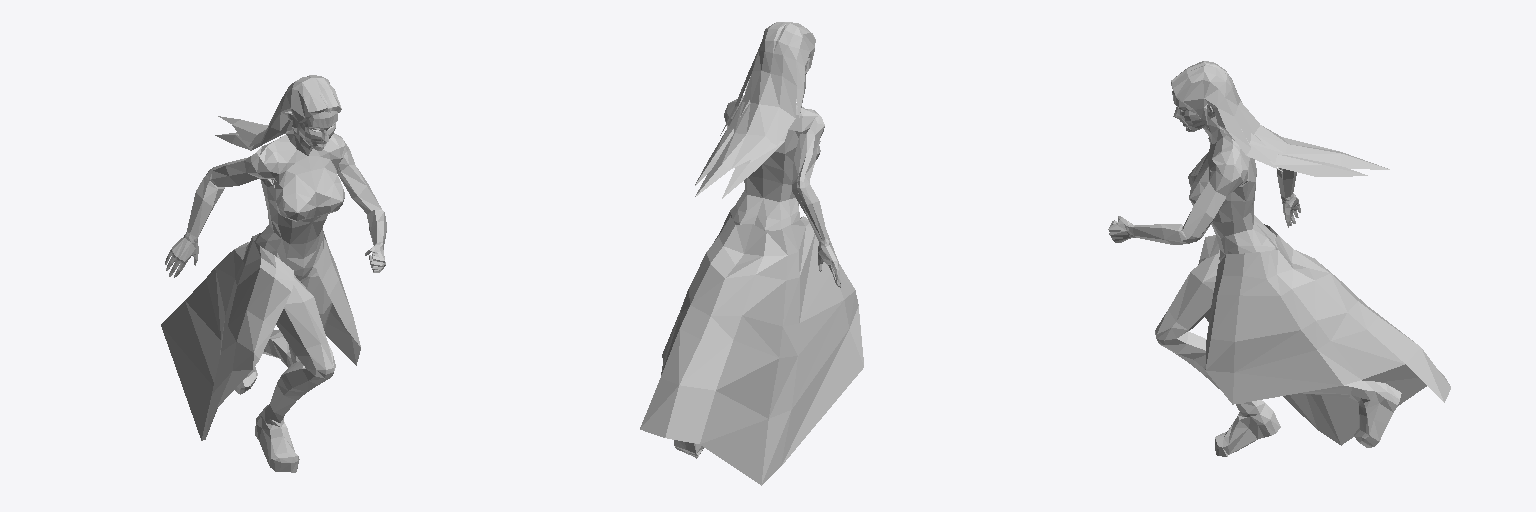
The model's file is running_017.obj.
3 renders of one model, left to right at view 1: azimuth 30°, elevation 25°; view 2: azimuth 150°, elevation 25°; view 3: azimuth 270°, elevation 25°, orthographic.
Visible parts, largest first — view 1: Plane.001_Plane.007, Plane.003_Plane.008, capelli.001_Plane.006; view 2: Plane.003_Plane.008, capelli.001_Plane.006, Plane.001_Plane.007; view 3: Plane.003_Plane.008, Plane.001_Plane.007, capelli.001_Plane.006.
Boxes of the visible parts, box(x1,y1,x2,y2) form: Plane.001_Plane.007: box(165, 90, 386, 472); Plane.003_Plane.008: box(161, 231, 360, 440); capelli.001_Plane.006: box(215, 75, 341, 150); Plane.003_Plane.008: box(640, 206, 863, 485); capelli.001_Plane.006: box(695, 22, 815, 198); Plane.001_Plane.007: box(674, 61, 840, 458); Plane.003_Plane.008: box(1198, 224, 1450, 445); Plane.001_Plane.007: box(1108, 71, 1401, 456); capelli.001_Plane.006: box(1171, 61, 1389, 176).
Size of the model in its own units: 2.11 by 4.98 by 3.85.